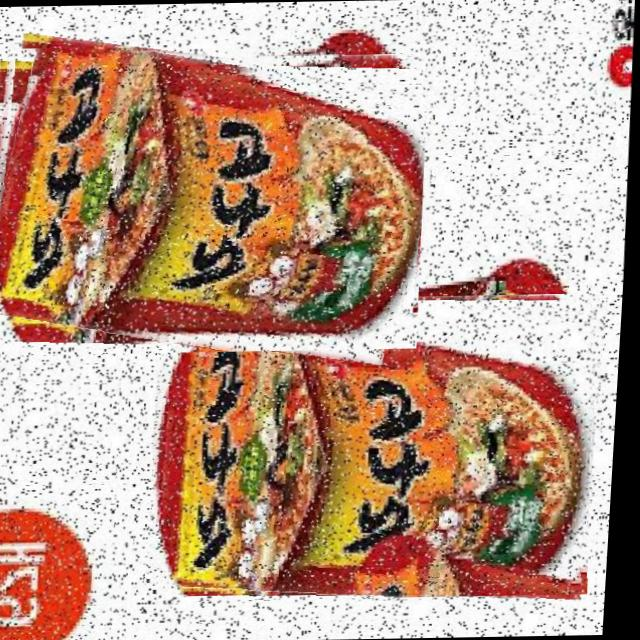Miscellaneous: (148, 286, 612, 600), (0, 39, 434, 355)
